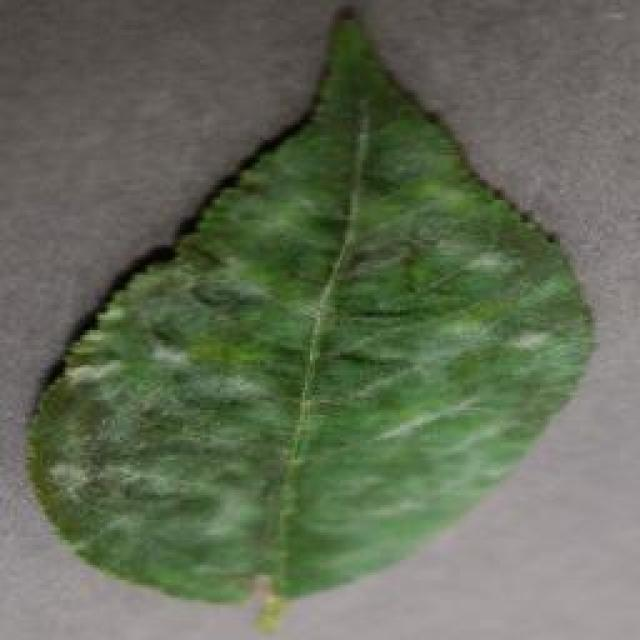Cherry___Powdery_mildew: (5, 0, 603, 638)
